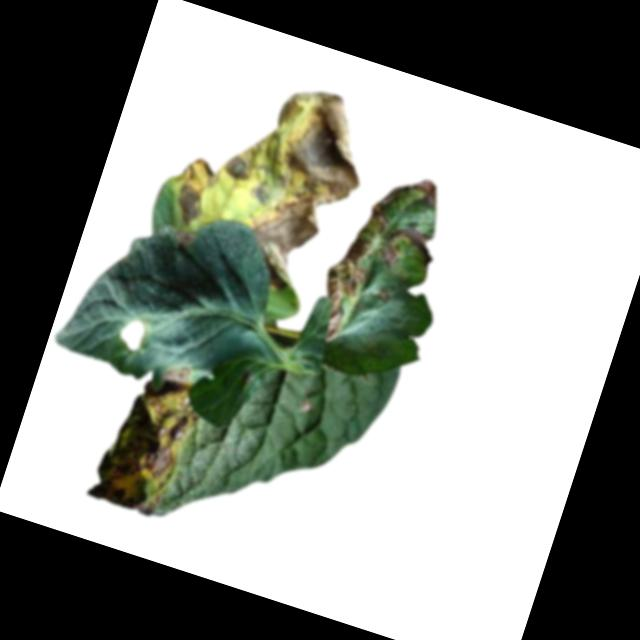Early_blight: (193, 69, 384, 307), (86, 350, 211, 522), (308, 230, 375, 345), (160, 153, 222, 233), (380, 223, 439, 262), (366, 179, 401, 234), (399, 171, 443, 207), (374, 240, 402, 270), (168, 225, 198, 252), (374, 286, 392, 305)
